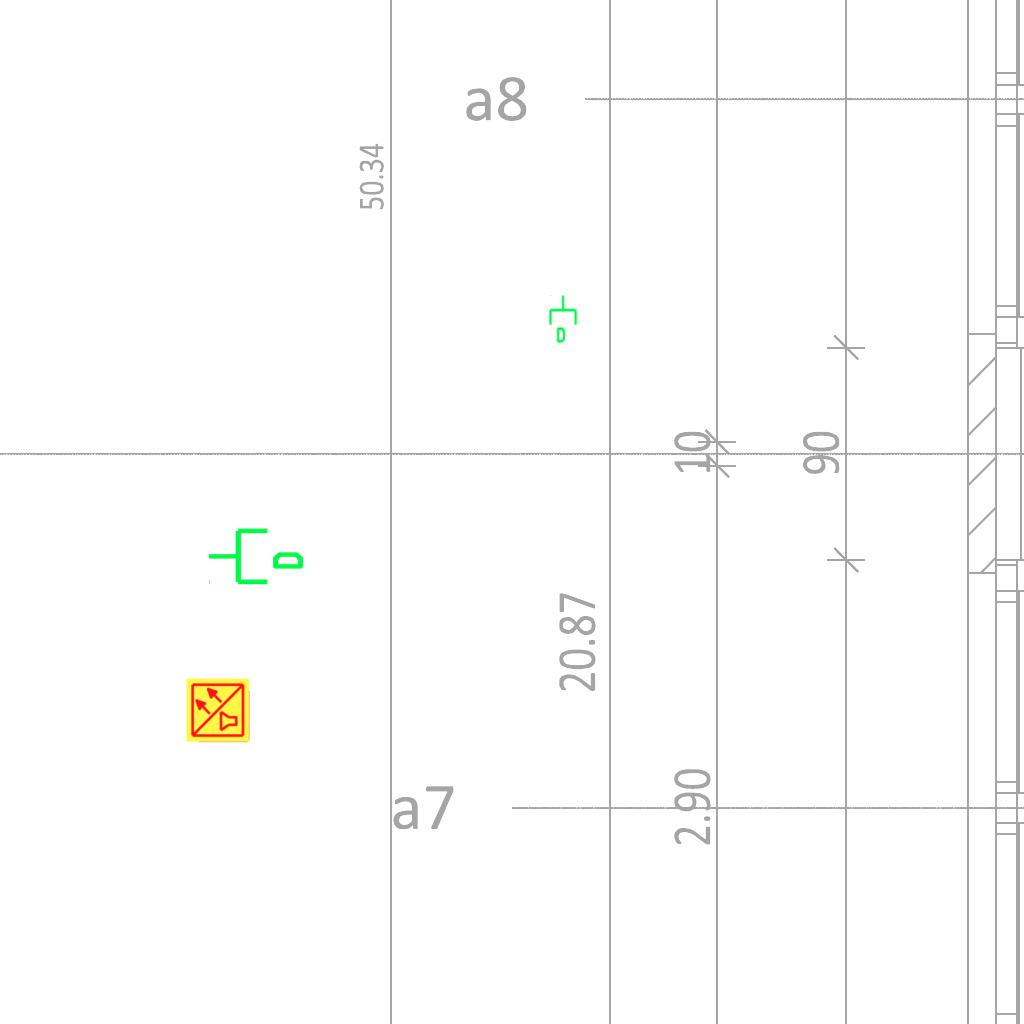Datenanschluss_einfach: (206, 520, 306, 589), (547, 294, 581, 344)
OKW_Multisensormelder_(Kombination_optischer_Rauch-Kahlenmonoxid_Waerme-Melder): (185, 677, 251, 743)
